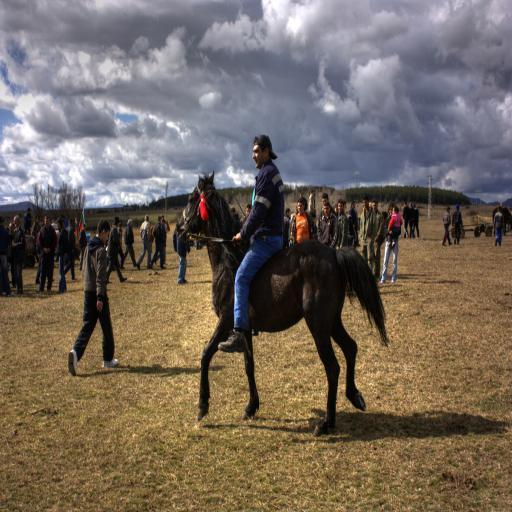horse: (171, 168, 389, 437)
